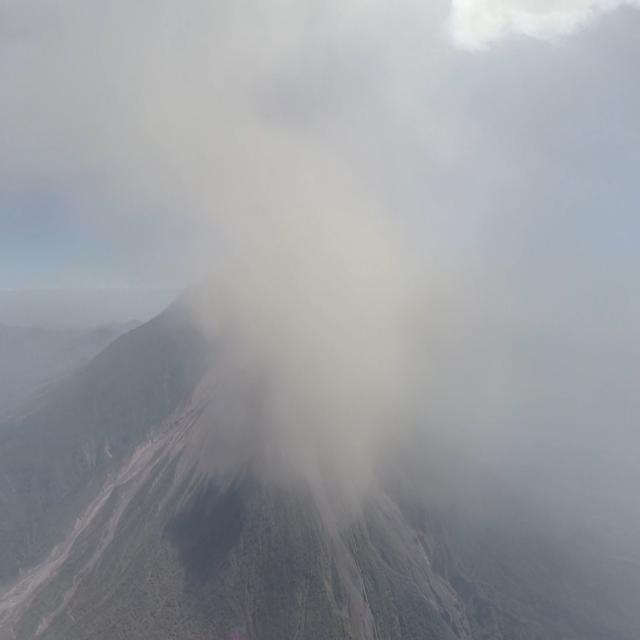Plume: (1, 2, 640, 530)
